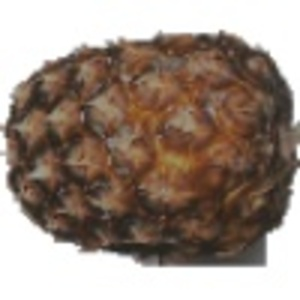abacaxi: (1, 24, 296, 258)
